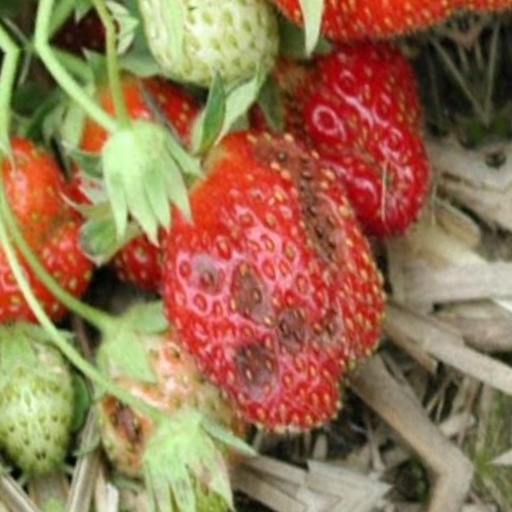Anthracnose Fruit Rot: (185, 136, 355, 396), (61, 310, 207, 448)
